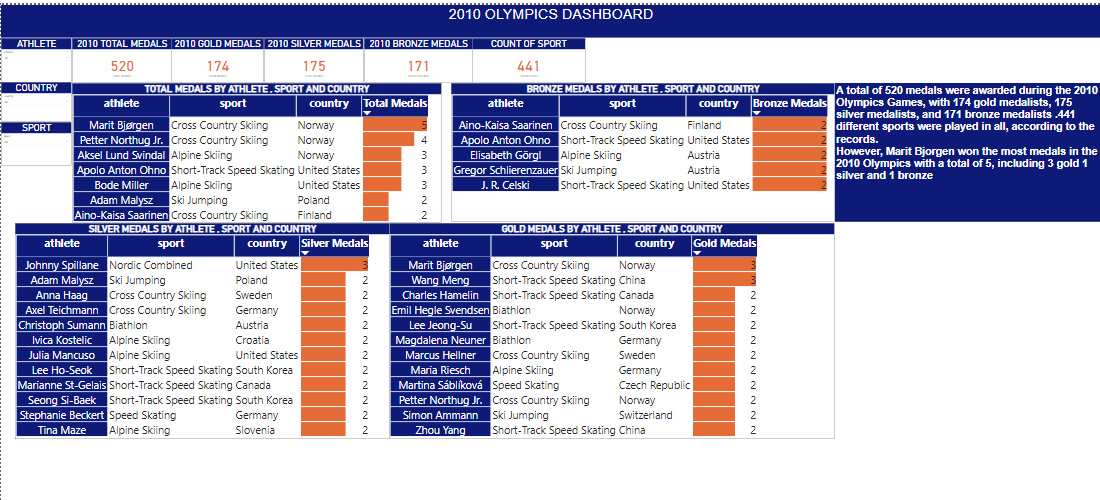

The dashboard page shown, as its layout file describes it:
{"tool":"powerbi","page":{"name":"2010 OLYMPICS REPORT","canvas":[5500,2500],"ordinal":5},"visuals":[{"type":"textbox","box":[0,0,5500,163.3],"z":0},{"type":"slicer","title":"ATHLETE","fields":{"Values":["2010 olympics.athlete"]},"box":[0,164.5,353.2,222.6],"z":1000},{"type":"slicer","title":"COUNTRY","fields":{"Values":["2010 olympics.country"]},"box":[0,387.1,353.2,198.4],"z":2000},{"type":"slicer","title":"SPORT","fields":{"Values":["2010 olympics.sport"]},"box":[0,585.5,353.2,217.7],"z":3000},{"type":"card","title":"2010 TOTAL MEDALS","fields":{"Values":["Sum(2010 olympics.Total Medals)"]},"box":[353.2,164.5,498.4,222.6],"z":4000},{"type":"card","title":"2010 GOLD MEDALS","fields":{"Values":["Sum(2010 olympics.Gold Medals)"]},"box":[851.6,164.5,464.5,222.6],"z":5000},{"type":"card","title":"2010 SILVER MEDALS","fields":{"Values":["Sum(2010 olympics.Silver Medals)"]},"box":[1316.1,164.5,498.4,222.6],"z":6000},{"type":"card","title":"2010 BRONZE MEDALS","fields":{"Values":["Sum(2010 olympics.Bronze Medals)"]},"box":[1814.5,164.5,541.9,222.6],"z":7000},{"type":"card","title":"COUNT OF SPORT","fields":{"Values":["2010 olympics.sportt count"]},"box":[2356.5,164.5,566.1,222.6],"z":8000},{"type":"tableEx","title":"TOTAL MEDALS BY ATHLETE , SPORT AND COUNTRY","fields":{"Values":["2010 olympics.athlete","2010 olympics.sport","2010 olympics.country","Sum(2010 olympics.Total Medals)"]},"box":[354.3,389.8,1848.4,696.9],"z":8001},{"type":"tableEx","title":"GOLD MEDALS BY ATHLETE , SPORT AND COUNTRY","fields":{"Values":["2010 olympics.athlete","2010 olympics.sport","2010 olympics.country","Sum(2010 olympics.Gold Medals)"]},"box":[1941.9,1088.9,2227.8,1079.9],"z":8002},{"type":"tableEx","title":"SILVER MEDALS BY ATHLETE , SPORT AND COUNTRY","fields":{"Values":["2010 olympics.athlete","2010 olympics.sport","2010 olympics.country","Sum(2010 olympics.Silver Medals)"]},"box":[68.1,1088.9,1873.9,1079.9],"z":8003},{"type":"tableEx","title":"BRONZE MEDALS BY ATHLETE , SPORT AND COUNTRY","fields":{"Values":["2010 olympics.athlete","2010 olympics.sport","2010 olympics.country","Sum(2010 olympics.Bronze Medals)"]},"box":[2250.5,390.2,1919.2,694.2],"z":8004},{"type":"textbox","box":[4169.7,390.2,1329.4,694.2],"z":8005}]}

Visuals, with their boxes in screenshot pixels (x1, y1, x2, y2), scaled from the page's 5500x2500 canvas onto the 1100x500 screenshot:
textbox: [0,0,1099,33]
"ATHLETE" slicer: [0,33,71,77]
"COUNTRY" slicer: [0,77,71,117]
"SPORT" slicer: [0,117,71,161]
"2010 TOTAL MEDALS" card: [71,33,170,77]
"2010 GOLD MEDALS" card: [170,33,263,77]
"2010 SILVER MEDALS" card: [263,33,363,77]
"2010 BRONZE MEDALS" card: [363,33,471,77]
"COUNT OF SPORT" card: [471,33,585,77]
"TOTAL MEDALS BY ATHLETE , SPORT AND COUNTRY" tableEx: [71,78,441,217]
"GOLD MEDALS BY ATHLETE , SPORT AND COUNTRY" tableEx: [388,218,834,434]
"SILVER MEDALS BY ATHLETE , SPORT AND COUNTRY" tableEx: [14,218,388,434]
"BRONZE MEDALS BY ATHLETE , SPORT AND COUNTRY" tableEx: [450,78,834,217]
textbox: [834,78,1099,217]
